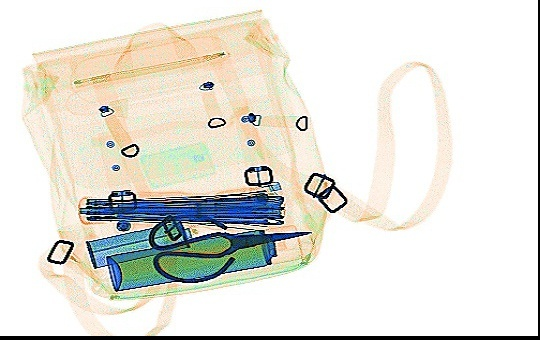lighter: (216, 178, 282, 201)
pressure: (103, 222, 306, 292)
scissors: (147, 209, 312, 283)
zippooil: (85, 218, 196, 269)
